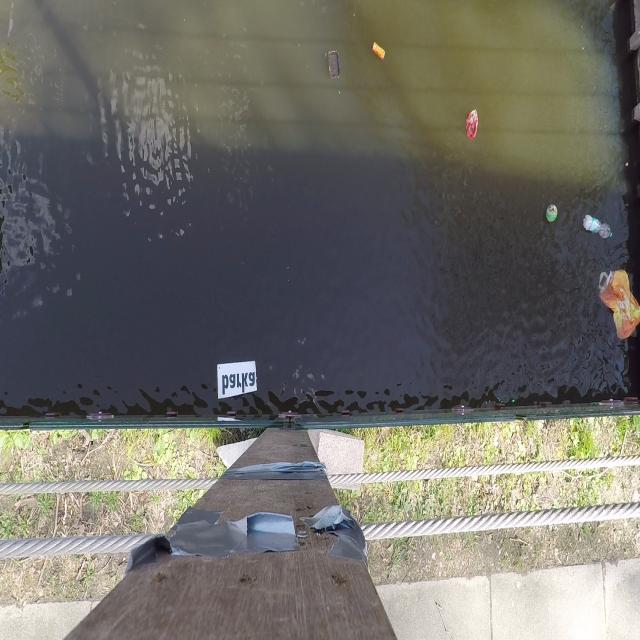Autre plastique: (320, 42, 340, 89), (542, 198, 561, 229)
Bouteille plastique: (581, 210, 613, 249)
Non plastique: (369, 38, 387, 67)
Sac plastique: (592, 268, 640, 344), (461, 102, 482, 150)
